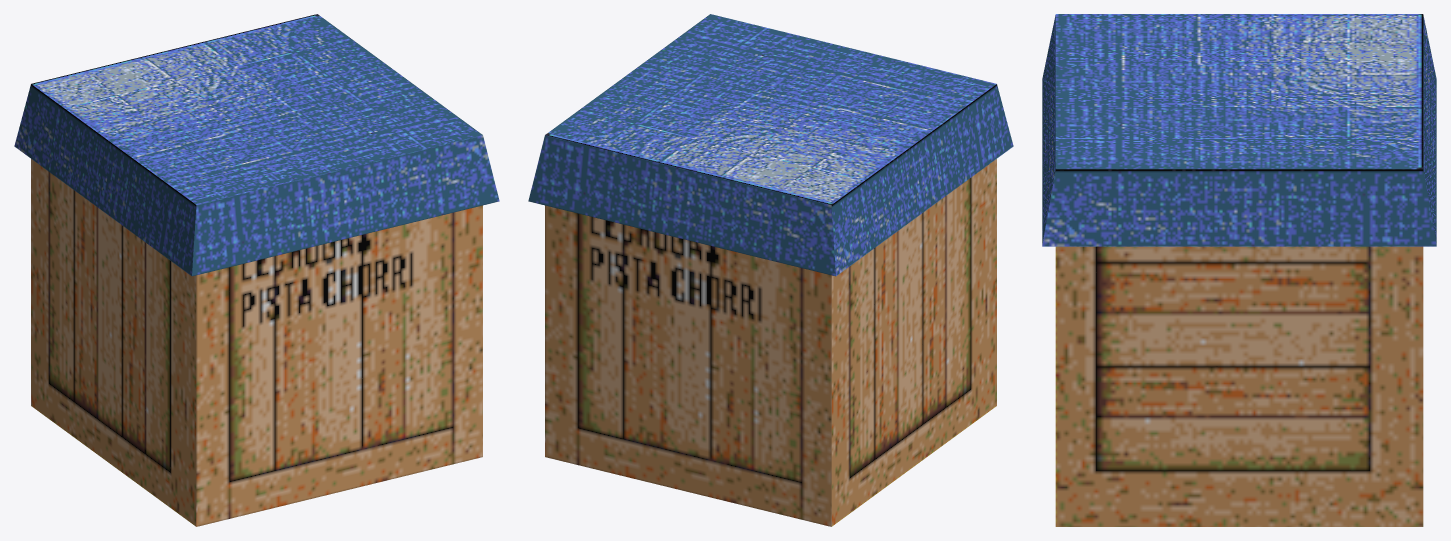
File: LechugasCajaTapada.fbx
3 renders of one model, left to right at view 1: azimuth 30°, elevation 25°; view 2: azimuth 150°, elevation 25°; view 3: azimuth 270°, elevation 25°, orthographic. The views are drawn at different scales.
Visible parts, largest first — view 1: LechugasCajaTapada; view 2: LechugasCajaTapada; view 3: LechugasCajaTapada.
Part boxes in pixels (x1,y1,x2,y2): LechugasCajaTapada: (14, 14, 499, 526); LechugasCajaTapada: (528, 14, 1013, 526); LechugasCajaTapada: (1042, 14, 1436, 526).
Size of the model in its own units: 1 by 1 by 1.
